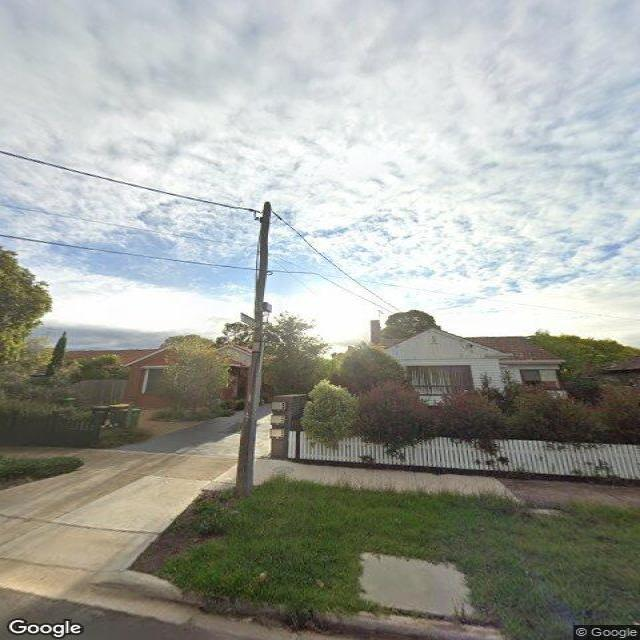timber-pole: (233, 201, 272, 500)
